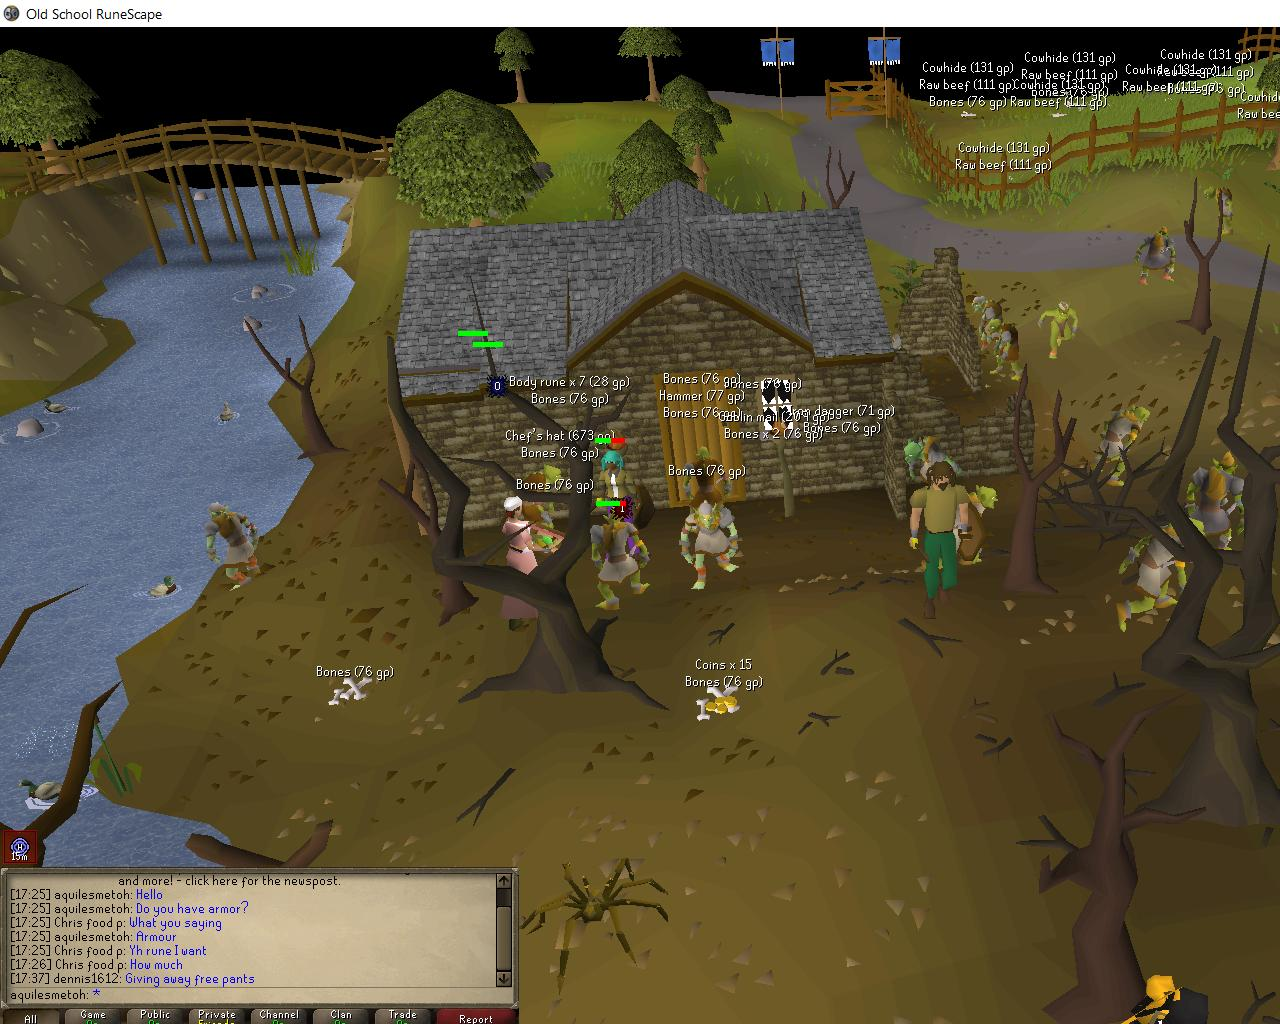Goblin: (1112, 517, 1206, 632), (673, 497, 744, 594), (583, 510, 651, 610), (1185, 450, 1250, 552), (200, 502, 269, 594), (942, 483, 1001, 568), (1095, 406, 1151, 488), (679, 445, 734, 520), (902, 434, 964, 496), (987, 318, 1035, 383), (1038, 297, 1083, 360), (1134, 224, 1178, 288), (971, 290, 1010, 354), (1203, 185, 1238, 239)
